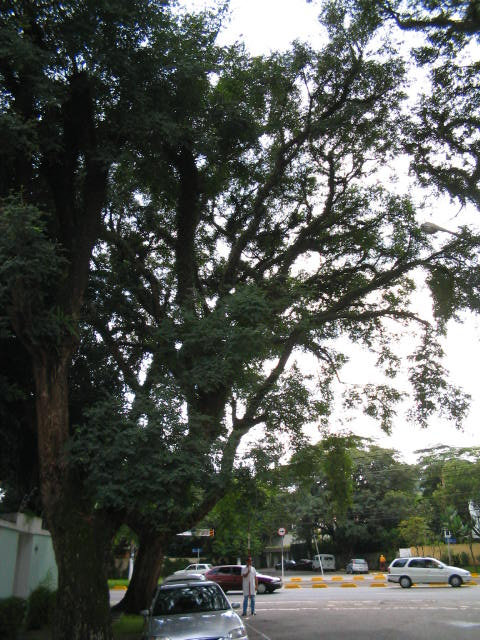stem: (25, 523, 125, 640), (114, 534, 169, 615)
stick: (243, 517, 255, 615)
tree: (116, 4, 457, 615), (2, 1, 136, 638)
